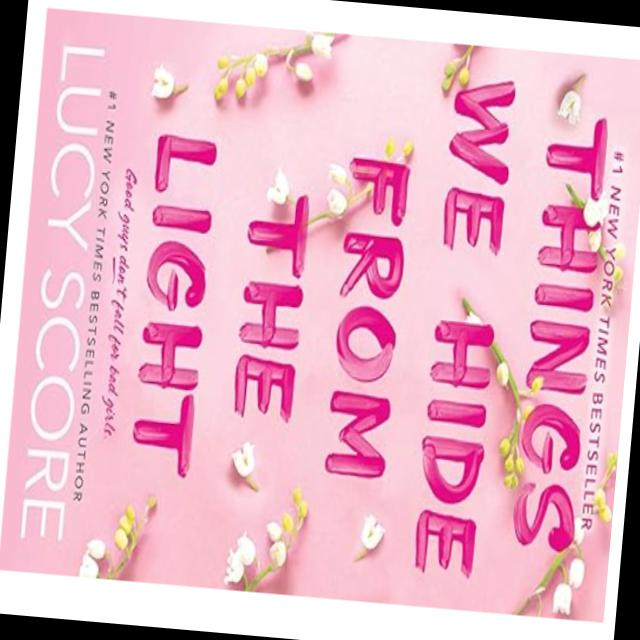titles-or-authors: (116, 45, 616, 598), (10, 30, 110, 552)
